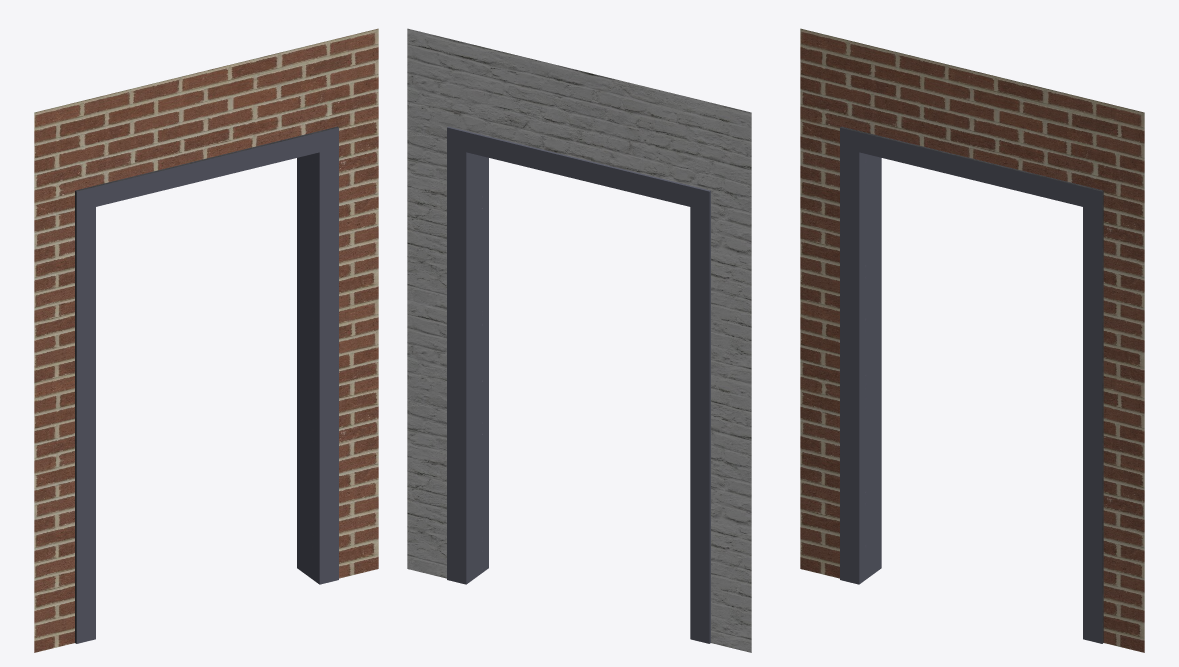
Rendered from SM_Wall_8th_Door_01.glb.
3 renders of one model, left to right at view 1: azimuth 30°, elevation 25°; view 2: azimuth 150°, elevation 25°; view 3: azimuth 330°, elevation 25°, orthographic.
Visible parts, largest first — view 1: SM_Wall_8th_Door_01; view 2: SM_Wall_8th_Door_01; view 3: SM_Wall_8th_Door_01.
Boxes of the visible parts, <box> form: SM_Wall_8th_Door_01: <box>34,28,378,652</box>; SM_Wall_8th_Door_01: <box>407,28,751,652</box>; SM_Wall_8th_Door_01: <box>800,28,1144,652</box>.
Size of the model in its own units: 2 by 3 by 0.2278.
Materials: 3 (3 with a texture image).
